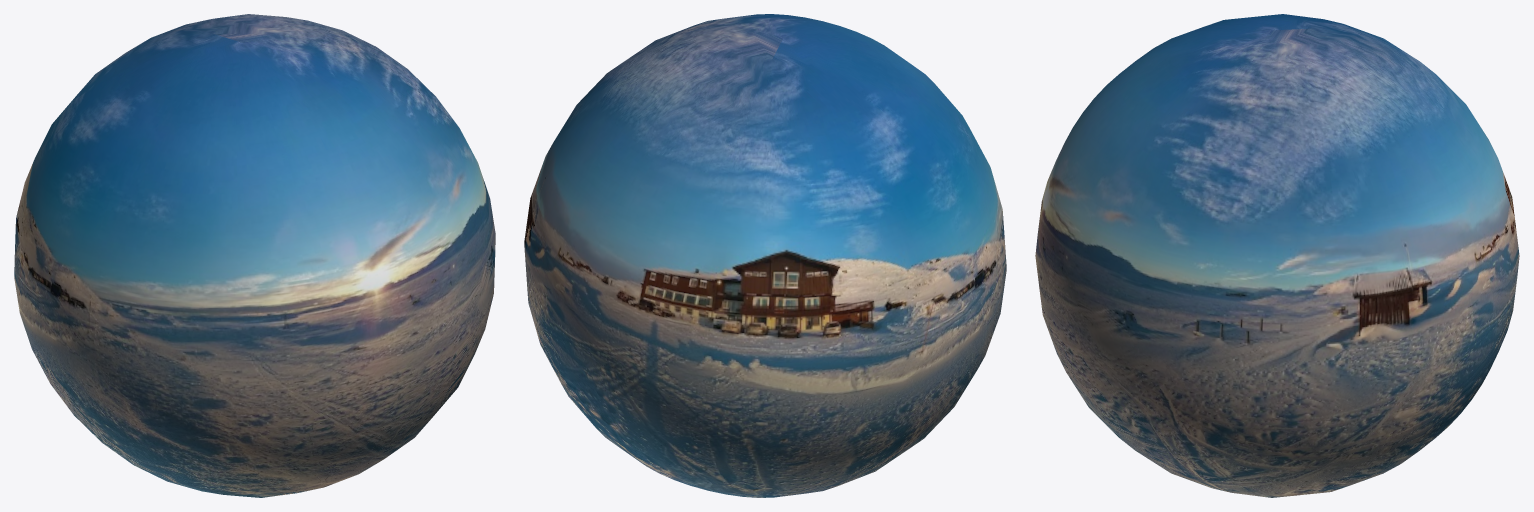
The model's file is skybox.fbx.
3 renders of one model, left to right at view 1: azimuth 30°, elevation 25°; view 2: azimuth 150°, elevation 25°; view 3: azimuth 270°, elevation 25°, orthographic.
Visible parts, largest first — view 1: Sphere; view 2: Sphere; view 3: Sphere.
Boxes of the visible parts, box(x1,y1,x2,y2) form: Sphere: box(14, 14, 495, 497); Sphere: box(524, 14, 1006, 497); Sphere: box(1035, 14, 1519, 497).
Bounding box in the file's own units: 379 × 379 × 380.
1 material, 1 textured.
